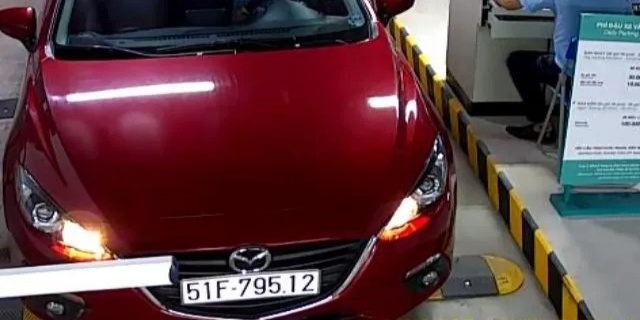bien_so: (181, 273, 317, 302)
